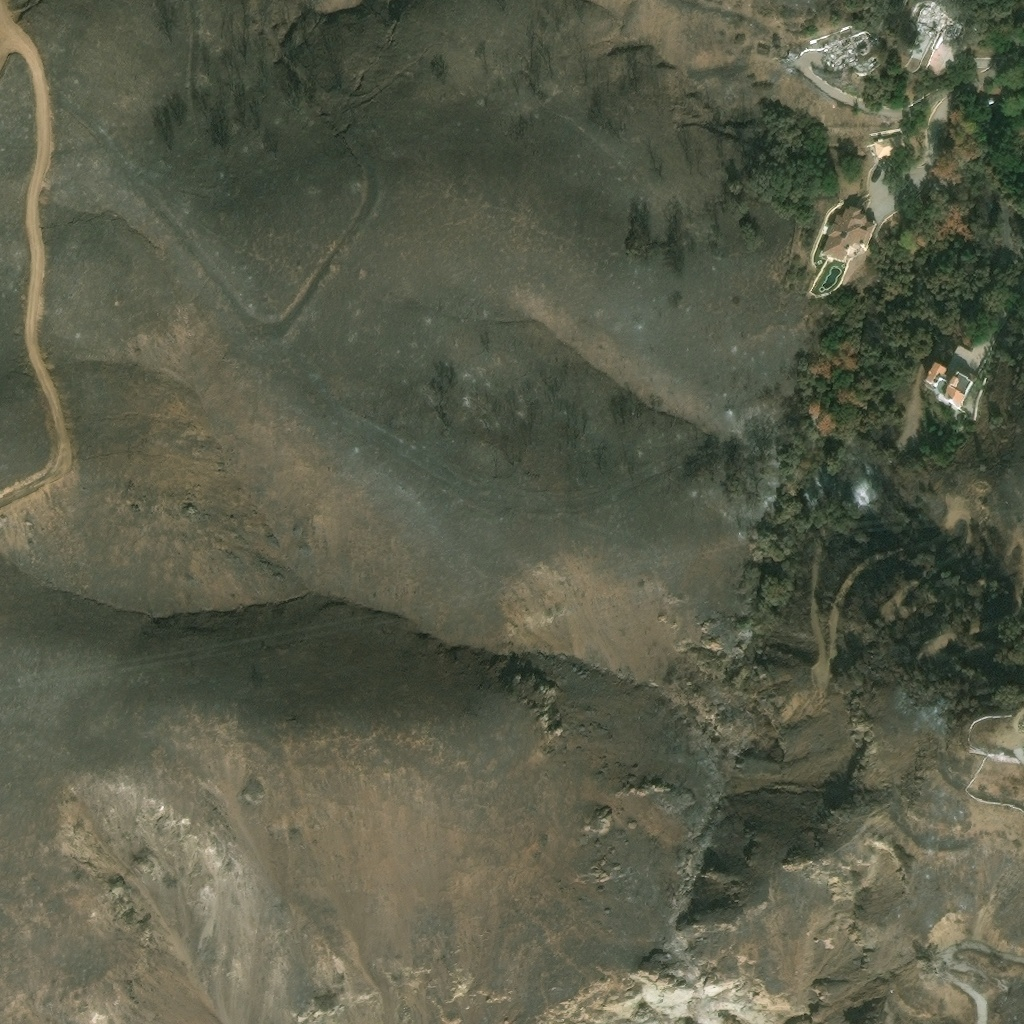0 no-damage: (820, 204, 874, 262), (923, 359, 977, 404), (874, 133, 905, 157), (986, 95, 998, 105)
3 destroyed: (912, 0, 962, 37), (821, 29, 870, 66), (786, 50, 797, 59), (782, 56, 789, 61)
